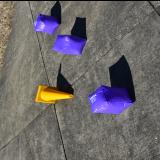cone: (35, 84, 73, 102)
cube: (86, 84, 134, 113), (52, 34, 87, 54), (34, 13, 60, 33)
